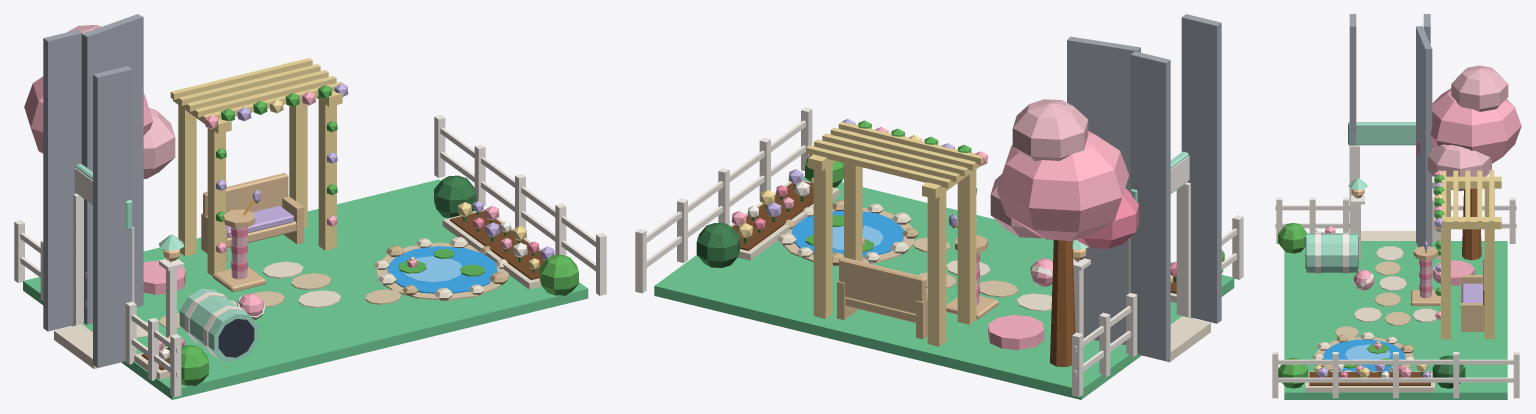
File: CleanACat_Area_GardenSide.fbx
The picture shows the model from 3 angles, left to right: view 1: azimuth 30°, elevation 25°; view 2: azimuth 150°, elevation 25°; view 3: azimuth 270°, elevation 25°; orthographic projection. The views are drawn at different scales.
Visible parts, largest first — view 1: CleanACat_Area_GardenSide, CleanACat_Area_GardenSide_Gate_Barrier, CleanACat_Area_GardenSide_Decor, CleanACat_Area_GardenSide_Flowers, CleanACat_Area_GardenSide_Pond, CleanACat_Area_GardenSide_Canopy; view 2: CleanACat_Area_GardenSide, CleanACat_Area_GardenSide_Gate_Barrier, CleanACat_Area_GardenSide_Canopy, CleanACat_Area_GardenSide_Decor, CleanACat_Area_GardenSide_Flowers, CleanACat_Area_GardenSide_Pond; view 3: CleanACat_Area_GardenSide, CleanACat_Area_GardenSide_Canopy, CleanACat_Area_GardenSide_Decor, CleanACat_Area_GardenSide_Gate_Barrier, CleanACat_Area_GardenSide_Flowers, CleanACat_Area_GardenSide_Sign_Decor, CleanACat_Area_GardenSide_Pond.
Part boxes in pixels (x1,y1,x2,y2): CleanACat_Area_GardenSide: (14,58,606,399); CleanACat_Area_GardenSide_Gate_Barrier: (43,14,143,367); CleanACat_Area_GardenSide_Decor: (143,189,508,361); CleanACat_Area_GardenSide_Flowers: (159,83,578,385); CleanACat_Area_GardenSide_Pond: (387,246,497,293); CleanACat_Area_GardenSide_Canopy: (24,25,175,178); CleanACat_Area_GardenSide: (635,107,1243,399); CleanACat_Area_GardenSide_Gate_Barrier: (1067,14,1221,360); CleanACat_Area_GardenSide_Canopy: (990,99,1138,248); CleanACat_Area_GardenSide_Decor: (777,200,1052,349); CleanACat_Area_GardenSide_Flowers: (696,119,1224,291); CleanACat_Area_GardenSide_Pond: (791,211,904,258); CleanACat_Area_GardenSide: (1272,145,1519,399); CleanACat_Area_GardenSide_Canopy: (1417,65,1521,191); CleanACat_Area_GardenSide_Decor: (1305,232,1482,372); CleanACat_Area_GardenSide_Gate_Barrier: (1349,14,1432,247); CleanACat_Area_GardenSide_Flowers: (1278,170,1465,388); CleanACat_Area_GardenSide_Sign_Decor: (1348,122,1415,145); CleanACat_Area_GardenSide_Pond: (1323,339,1405,371).
Size of the model in its own units: 19.8 by 12.32 by 12.5.
Materials: 1 (1 with a texture image).
